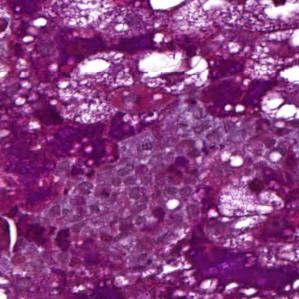ballooning: (135, 50, 211, 98)
